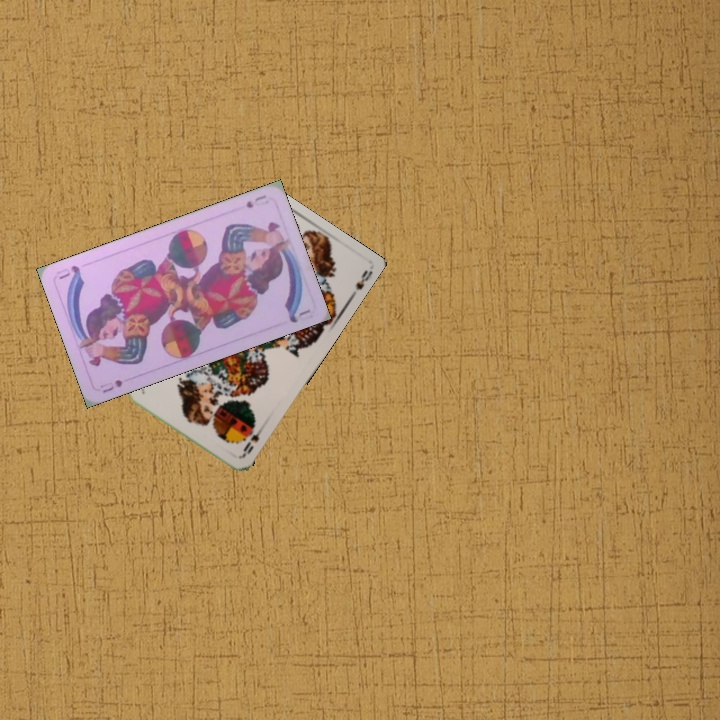SO: (239, 422, 267, 459)
SU: (242, 191, 271, 211), (96, 375, 125, 395)
